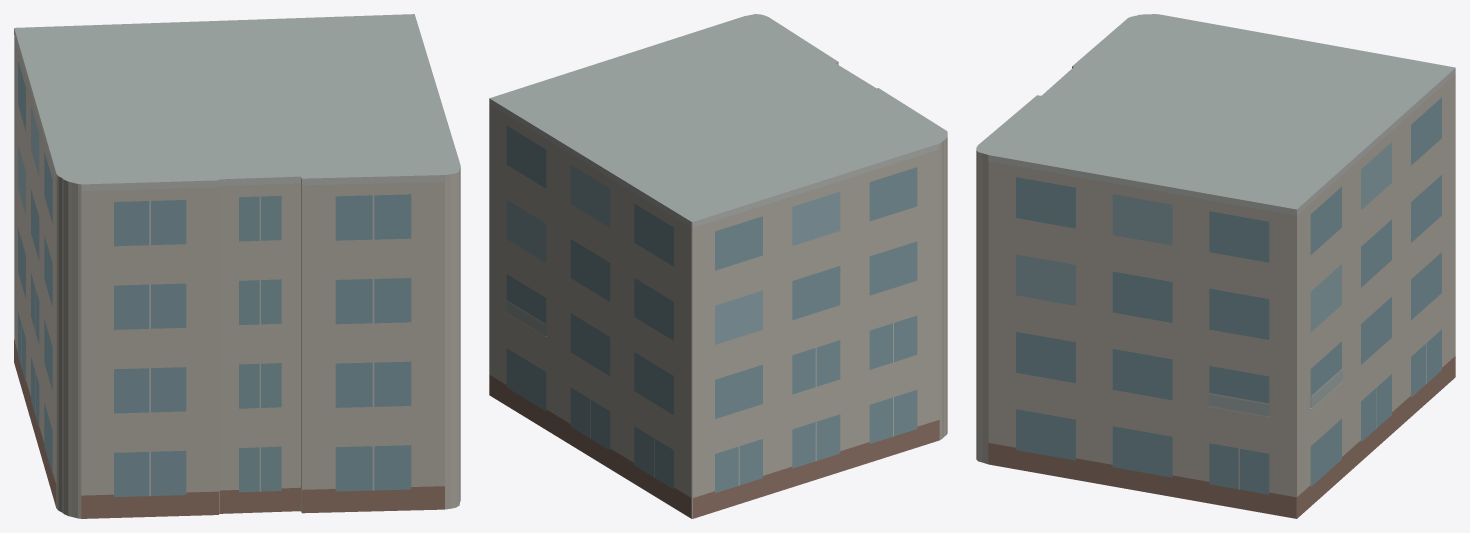
Rendered from survey-upis-32780470.glb.
3 renders of one model, left to right at view 1: azimuth 30°, elevation 25°; view 2: azimuth 150°, elevation 25°; view 3: azimuth 270°, elevation 25°, orthographic. The views are drawn at different scales.
Parts seen in each view (by area): view 1: survey-upis-32780470.tmp; view 2: survey-upis-32780470.tmp; view 3: survey-upis-32780470.tmp.
Part boxes in pixels (x1,y1,x2,y2): survey-upis-32780470.tmp: (14, 14, 460, 518); survey-upis-32780470.tmp: (489, 14, 947, 518); survey-upis-32780470.tmp: (976, 14, 1455, 518).
Bounding box in the file's own units: 16.54 × 12.2 × 17.14.
